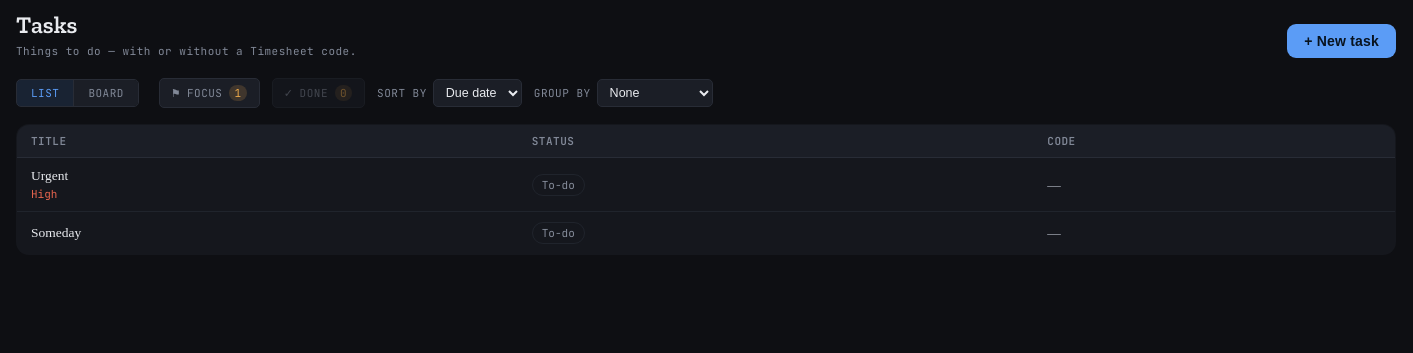
Test: TasksScreen › groups tasks by priority, showing "No priority" for tasks without one
Select "Priority" in the dropdown with test id "wk-task-group-select" at (655, 93), box top-left (597, 79), bottom-right (713, 107)
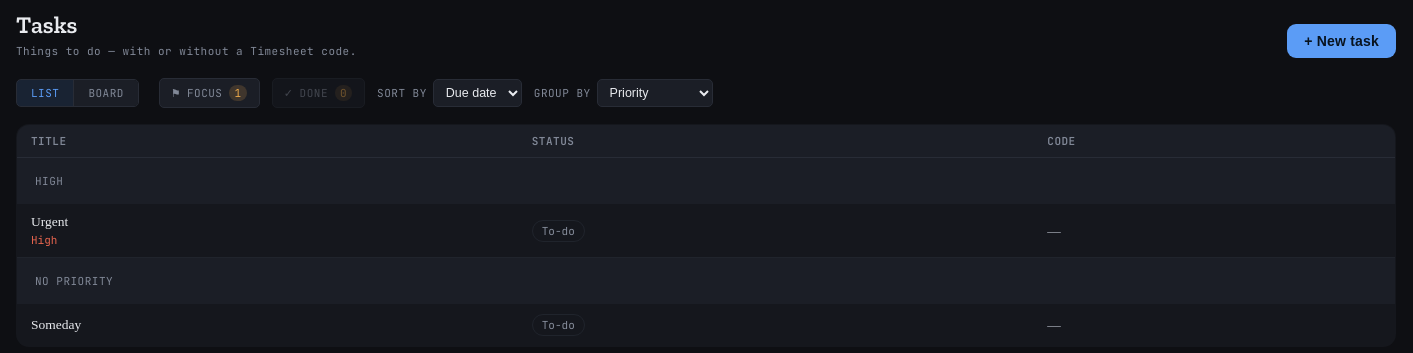
Expected: the text "High" is shown, top-left (35, 174), bottom-right (63, 188)
Expected: the text "No priority" is shown, top-left (35, 274), bottom-right (113, 288)
